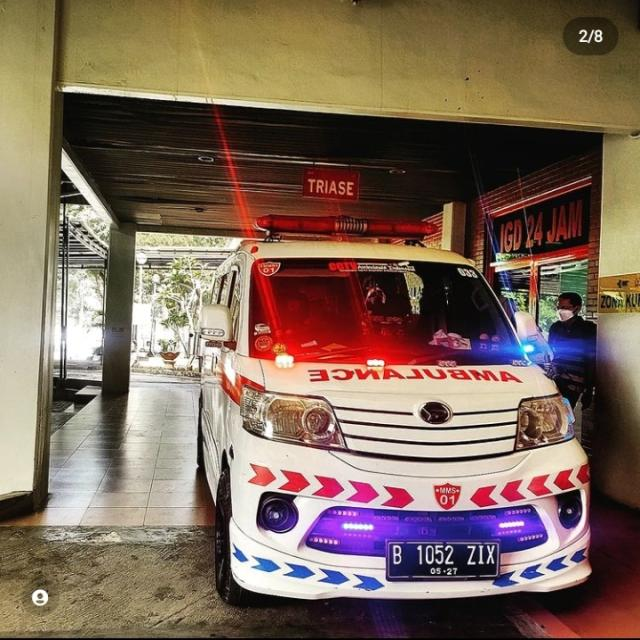emergency-vehicle: (188, 214, 598, 612)
